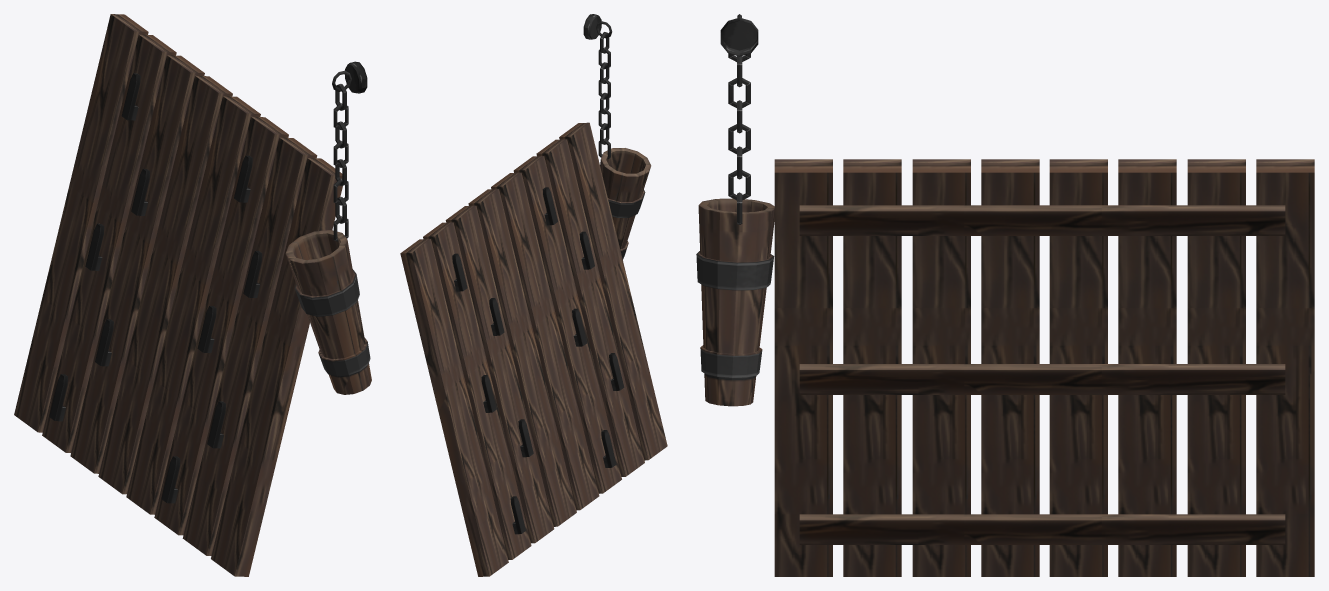
Rendered from SM_weaponStand.fbx.
3 views of the same model, side by side, from view 1: azimuth 30°, elevation 25°; view 2: azimuth 150°, elevation 25°; view 3: azimuth 270°, elevation 25° (orthographic). The views are drawn at different scales.
Visible parts, largest first — view 1: SM_weaponStand; view 2: SM_weaponStand; view 3: SM_weaponStand.
Boxes of the visible parts, bbox=[...] form: SM_weaponStand: bbox=[14, 14, 371, 576]; SM_weaponStand: bbox=[400, 14, 667, 576]; SM_weaponStand: bbox=[696, 14, 1314, 576].
Bounding box in the file's own units: 1.28 × 5.17 × 4.72.
